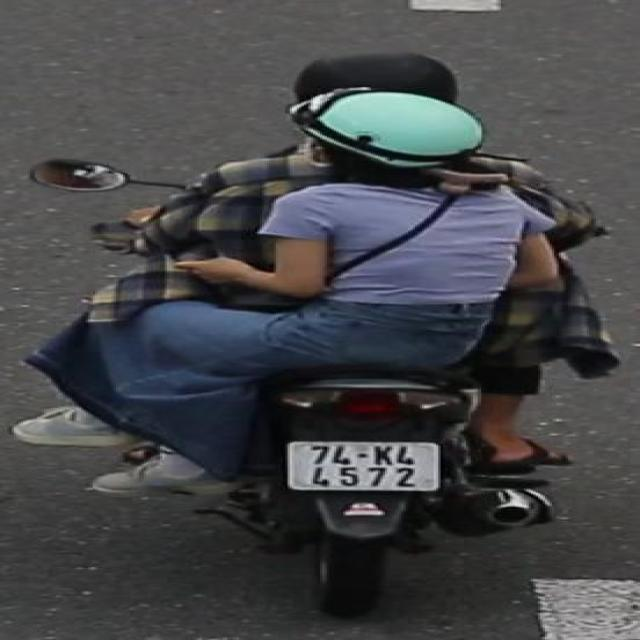LP: (270, 434, 456, 499)
helmet: (274, 81, 542, 206), (250, 45, 480, 110)
